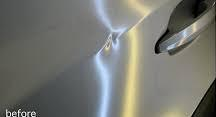dent: (96, 26, 127, 59)
